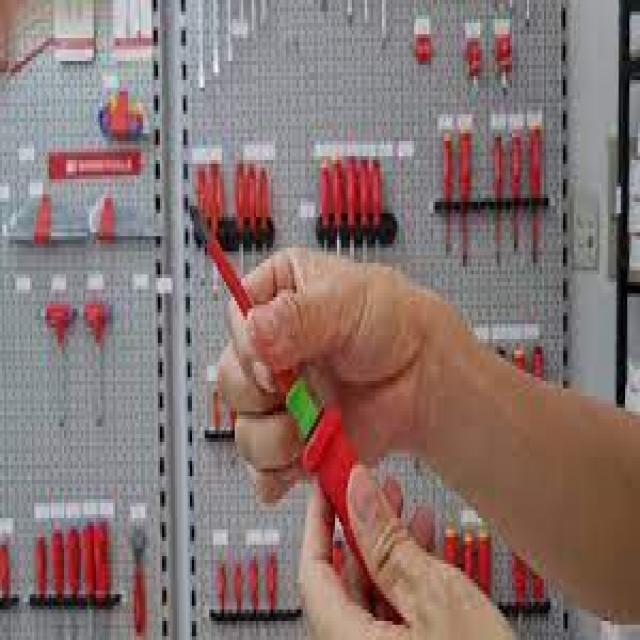screwdriver: (190, 204, 410, 604)
